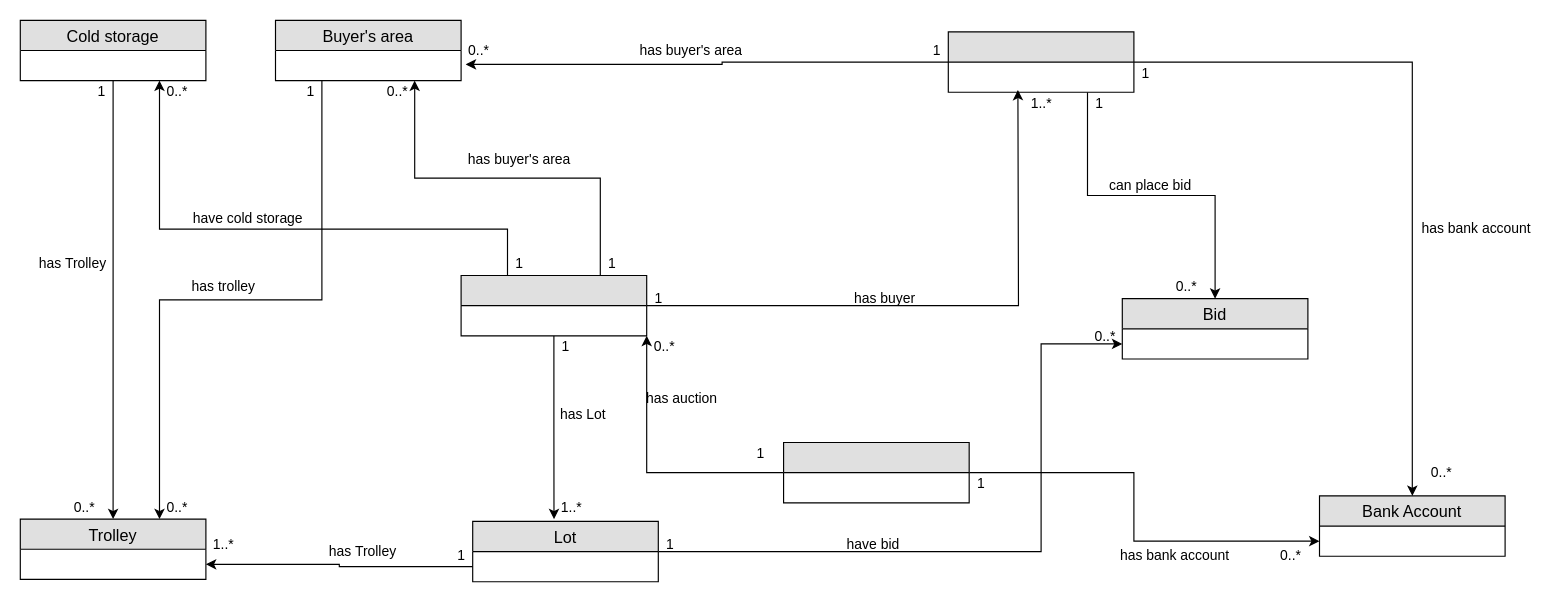
The diagram is 1560 pixels wide and 602 high, and some of its shapes have lost their labels. Each missing label, with the centre of its shape:
"Auction" goes at [553,305].
"Auctioneer" goes at [875,472].
"Buyer" goes at [1040,61].
